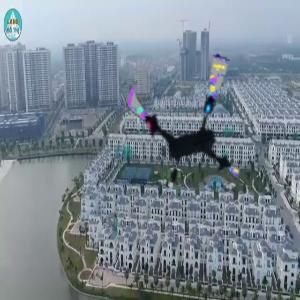drone: (115, 49, 262, 196)
